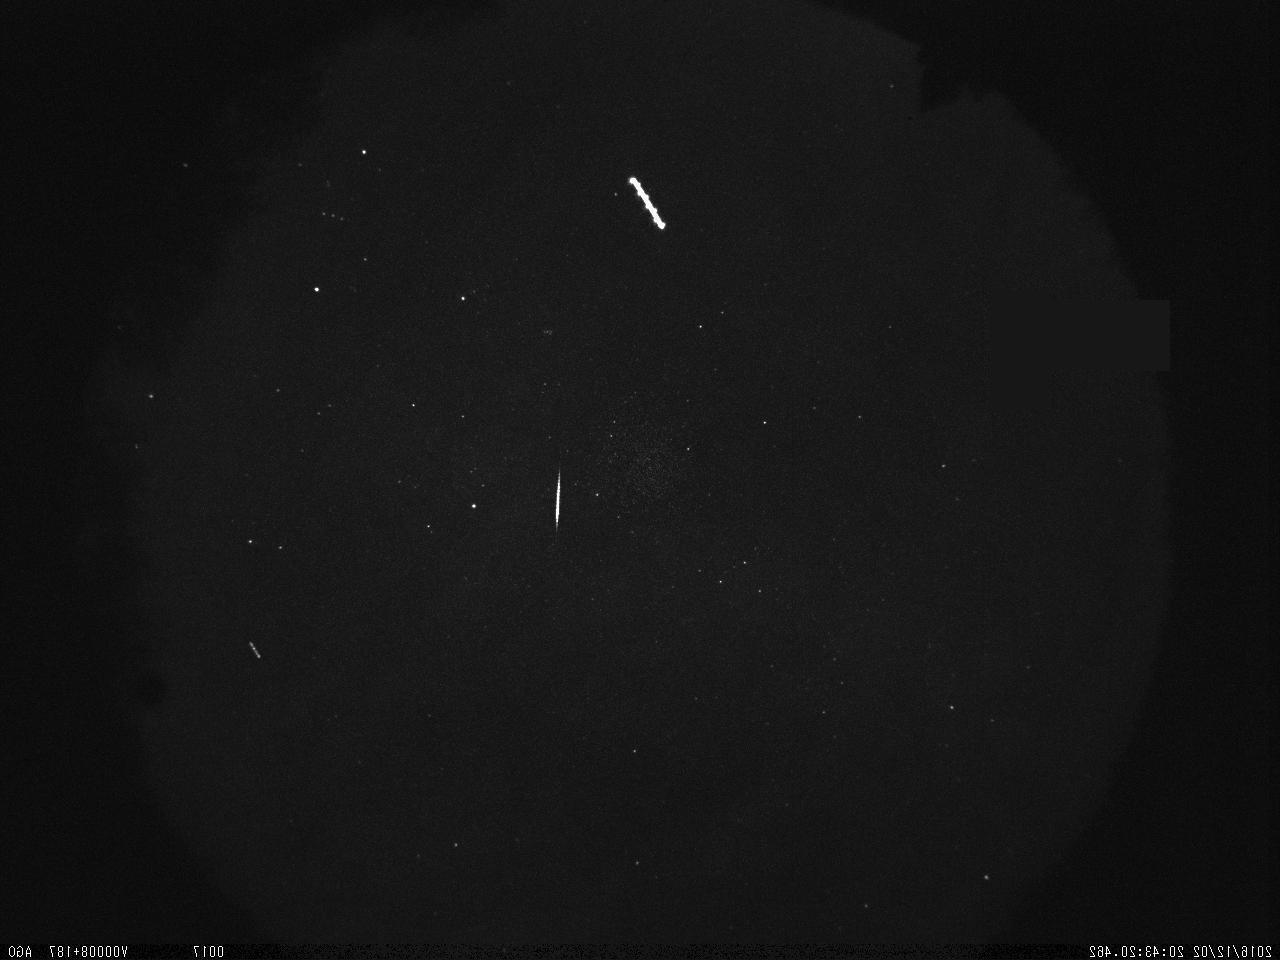meteor: (548, 449, 569, 543)
satelite: (624, 167, 674, 242), (240, 628, 269, 666)
